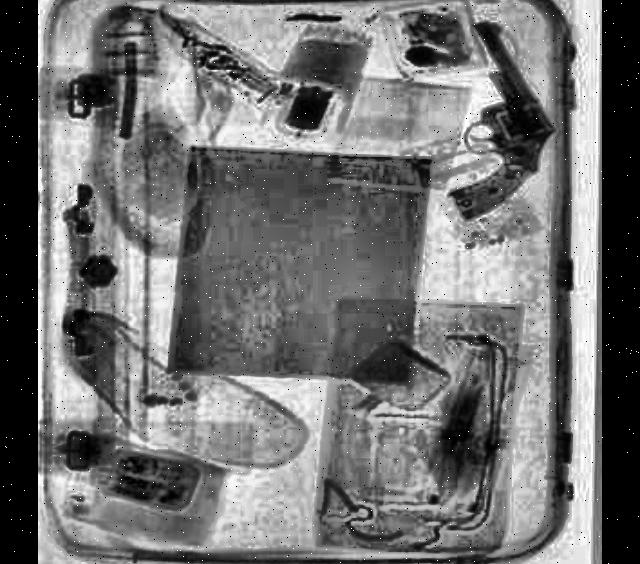Gun: (444, 20, 556, 224)
